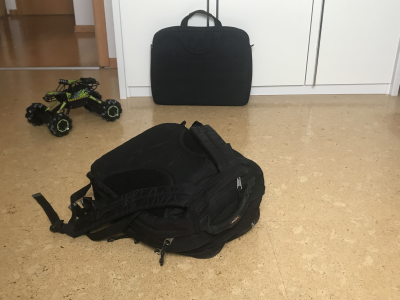remote control car: (23, 74, 123, 138)
